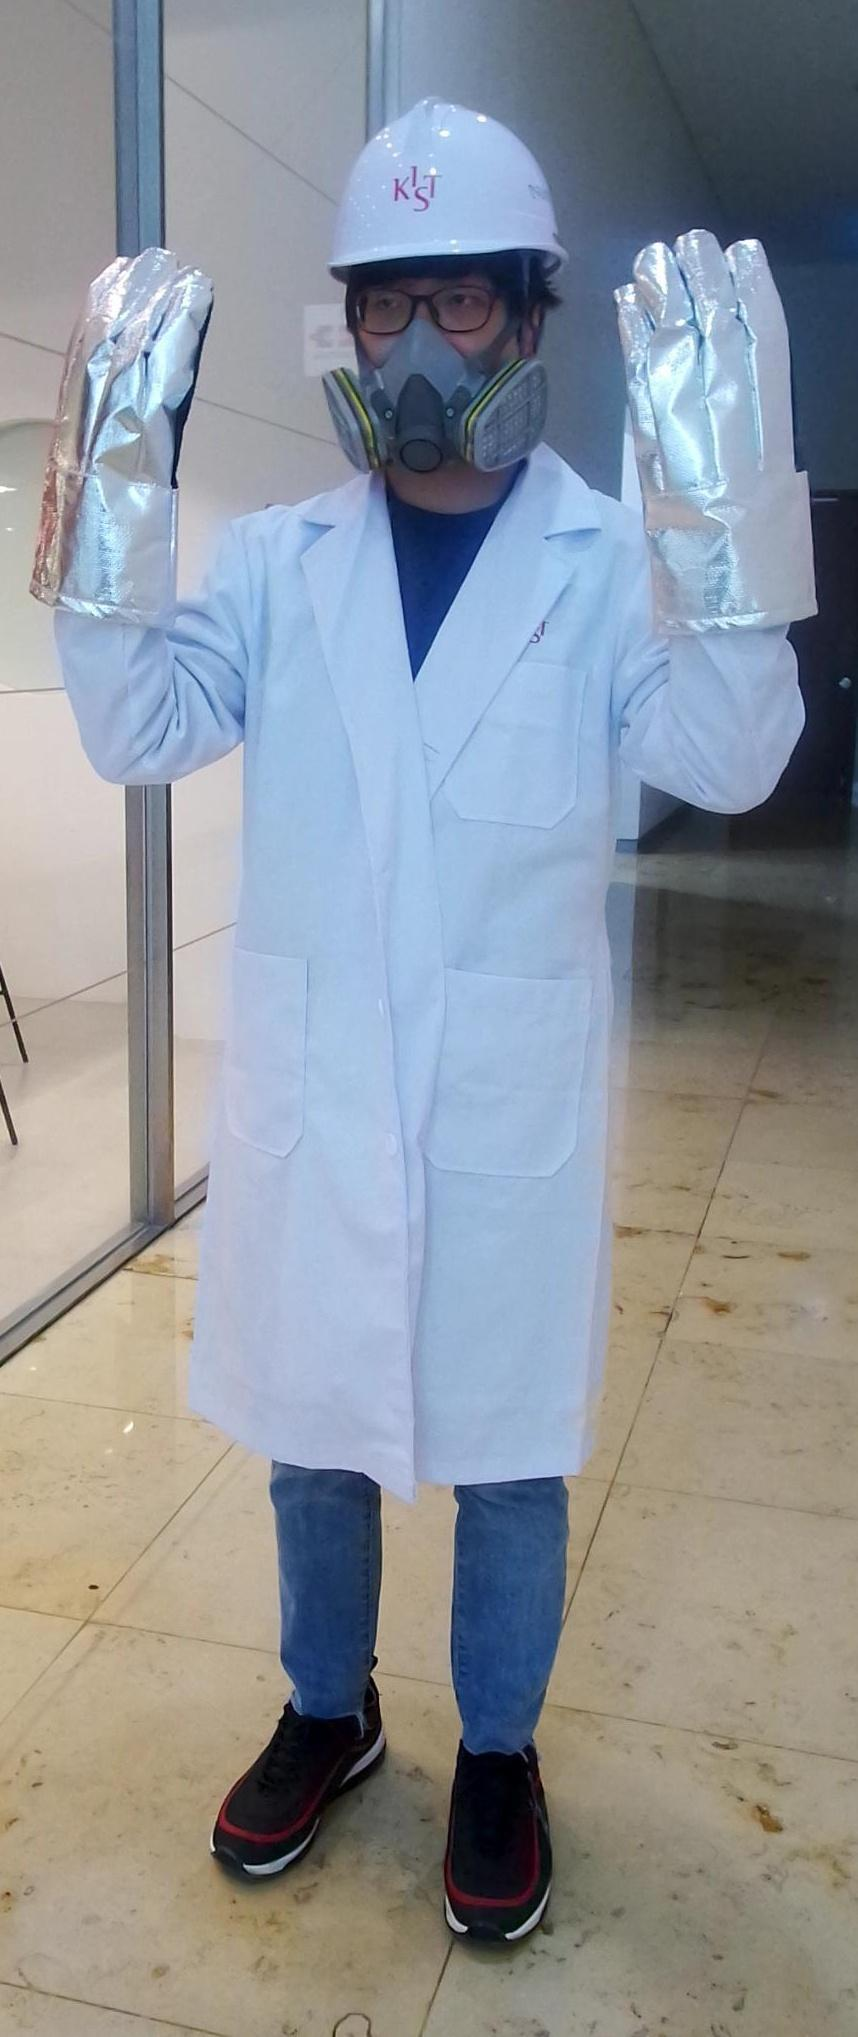lab_coat: (175, 505, 651, 1460)
